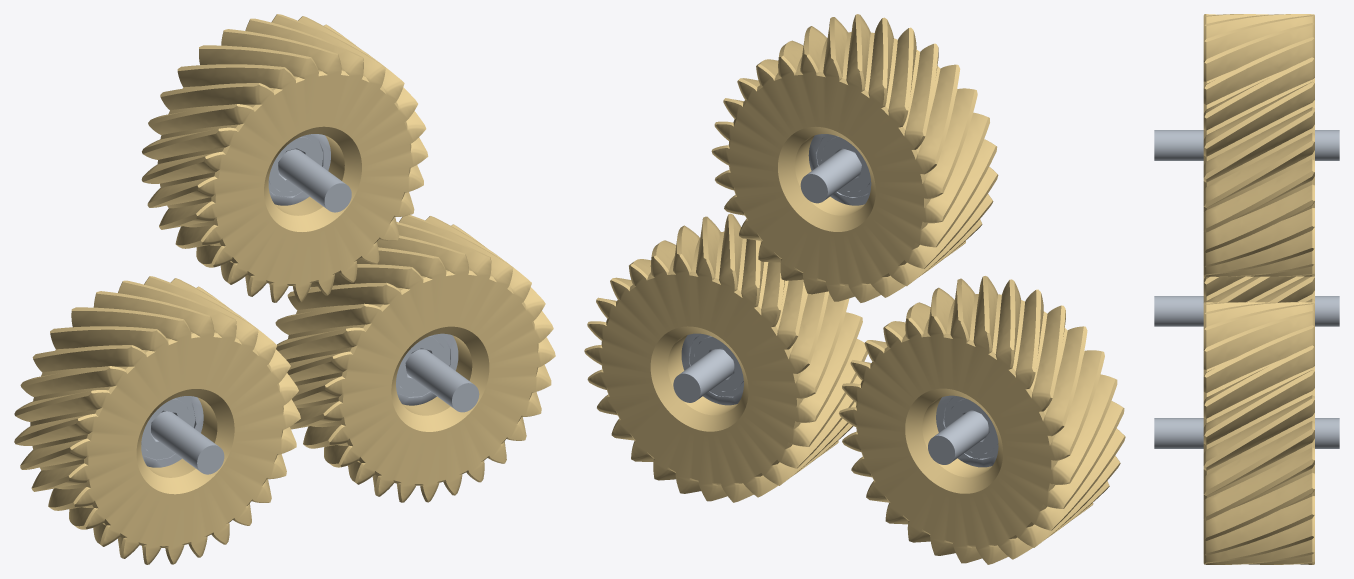
Rendered from planets_LOD0.fbx.
3 renders of one model, left to right at view 1: azimuth 30°, elevation 25°; view 2: azimuth 150°, elevation 25°; view 3: azimuth 270°, elevation 25°, orthographic.
Parts seen in each view (by area): view 1: MM_opentorque_planet_gear_5db8852222, MM_opentorque_planet_gear_af5c958995, MM_opentorque_planet_gear_72558508bb, MM_opentorque_m5x30_dowel_pin_196a983226, MM_opentorque_m5x30_dowel_pin_6ace21a764, MM_opentorque_m5x30_dowel_pin_e2db54c60f, MM_opentorque_f625zz_b71b710309, MM_opentorque_f625zz_3304ba2d2d, MM_opentorque_f625zz_3bb62ee69e; view 2: MM_opentorque_planet_gear_af5c958995, MM_opentorque_planet_gear_5db8852222, MM_opentorque_planet_gear_72558508bb, MM_opentorque_f625zz_3304ba2d2d, MM_opentorque_f625zz_b71b710309, MM_opentorque_m5x30_dowel_pin_196a983226, MM_opentorque_m5x30_dowel_pin_e2db54c60f, MM_opentorque_m5x30_dowel_pin_6ace21a764, MM_opentorque_f625zz_3bb62ee69e; view 3: MM_opentorque_planet_gear_72558508bb, MM_opentorque_planet_gear_af5c958995, MM_opentorque_planet_gear_5db8852222, MM_opentorque_m5x30_dowel_pin_196a983226, MM_opentorque_m5x30_dowel_pin_6ace21a764, MM_opentorque_m5x30_dowel_pin_e2db54c60f.
Part boxes in pixels (left/top/right/bottom): MM_opentorque_planet_gear_5db8852222: left=14, top=276, right=300, bottom=564; MM_opentorque_planet_gear_af5c958995: left=141, top=14, right=428, bottom=302; MM_opentorque_planet_gear_72558508bb: left=275, top=215, right=555, bottom=502; MM_opentorque_m5x30_dowel_pin_196a983226: left=151, top=411, right=224, bottom=474; MM_opentorque_m5x30_dowel_pin_6ace21a764: left=405, top=349, right=479, bottom=412; MM_opentorque_m5x30_dowel_pin_e2db54c60f: left=278, top=149, right=351, bottom=212; MM_opentorque_f625zz_b71b710309: left=396, top=333, right=458, bottom=405; MM_opentorque_f625zz_3304ba2d2d: left=141, top=396, right=203, bottom=467; MM_opentorque_f625zz_3bb62ee69e: left=268, top=134, right=330, bottom=205; MM_opentorque_planet_gear_af5c958995: left=711, top=14, right=998, bottom=302; MM_opentorque_planet_gear_5db8852222: left=839, top=276, right=1125, bottom=564; MM_opentorque_planet_gear_72558508bb: left=584, top=213, right=867, bottom=502; MM_opentorque_f625zz_3304ba2d2d: left=936, top=395, right=998, bottom=467; MM_opentorque_f625zz_b71b710309: left=681, top=333, right=743, bottom=405; MM_opentorque_m5x30_dowel_pin_196a983226: left=928, top=411, right=988, bottom=464; MM_opentorque_m5x30_dowel_pin_e2db54c60f: left=800, top=149, right=861, bottom=203; MM_opentorque_m5x30_dowel_pin_6ace21a764: left=673, top=349, right=734, bottom=402; MM_opentorque_f625zz_3bb62ee69e: left=808, top=134, right=871, bottom=205; MM_opentorque_planet_gear_72558508bb: left=1203, top=302, right=1314, bottom=564; MM_opentorque_planet_gear_af5c958995: left=1203, top=14, right=1314, bottom=276; MM_opentorque_planet_gear_5db8852222: left=1203, top=275, right=1314, bottom=303; MM_opentorque_m5x30_dowel_pin_196a983226: left=1154, top=296, right=1339, bottom=326; MM_opentorque_m5x30_dowel_pin_6ace21a764: left=1154, top=418, right=1339, bottom=448; MM_opentorque_m5x30_dowel_pin_e2db54c60f: left=1154, top=130, right=1339, bottom=160.
Size of the model in its own units: 0.0893 by 0.083 by 0.03.
